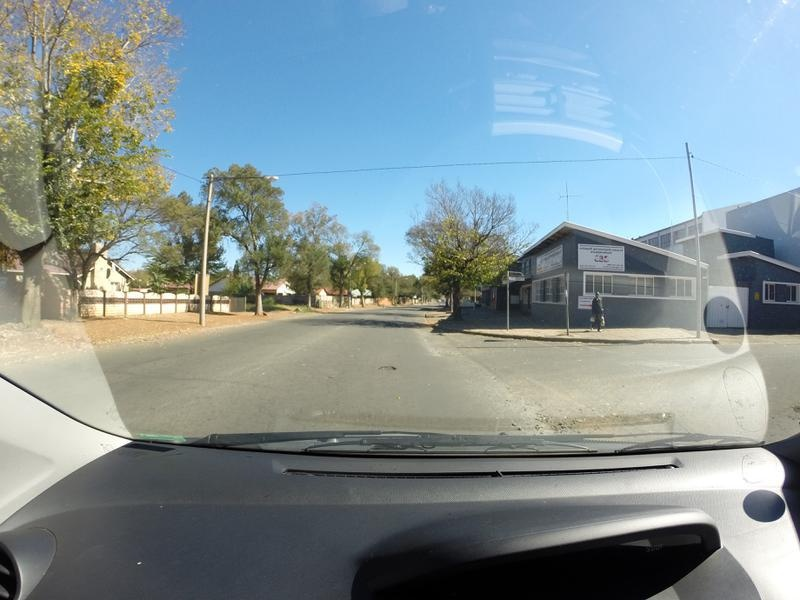pothole: (354, 357, 396, 376)
